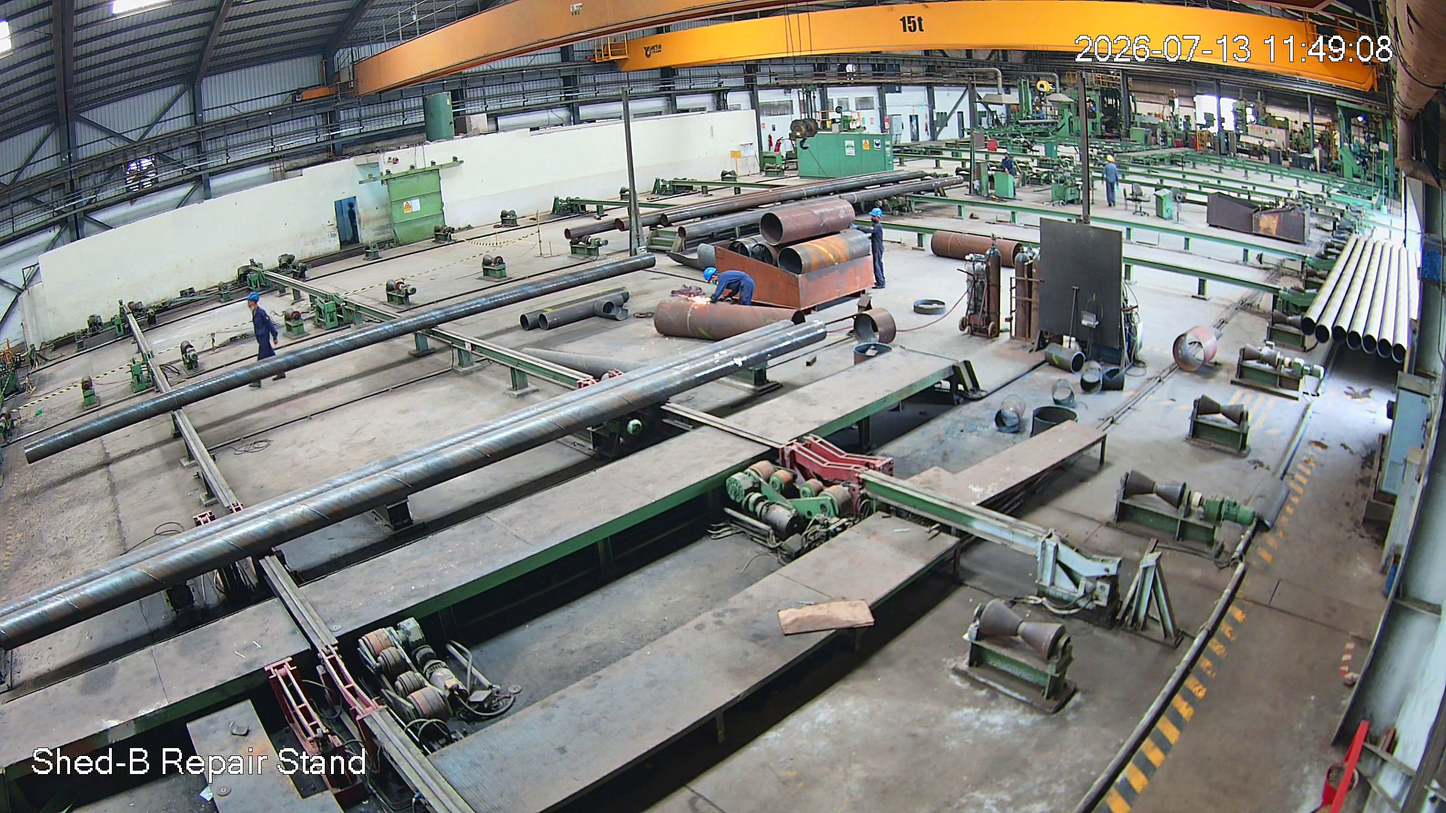Helmet: (701, 266, 723, 289), (243, 290, 263, 314), (868, 207, 885, 226)
Person: (243, 294, 285, 386), (702, 266, 761, 309), (867, 208, 887, 290)
